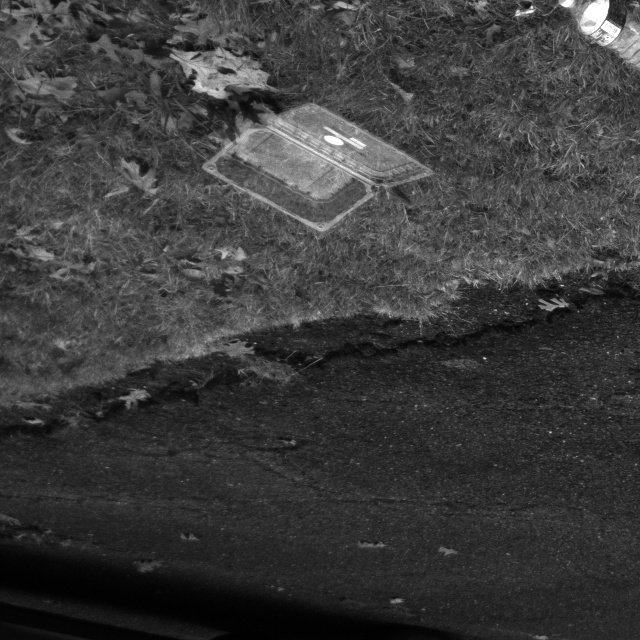bottle: (544, 0, 640, 93)
container: (204, 76, 435, 249)
